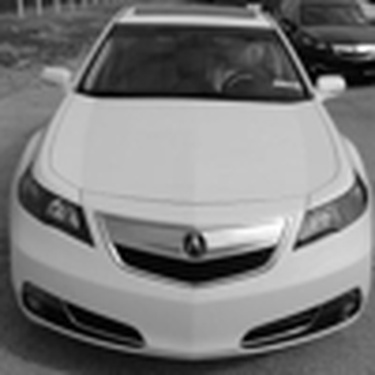car: (4, 1, 371, 371), (263, 1, 372, 84)
